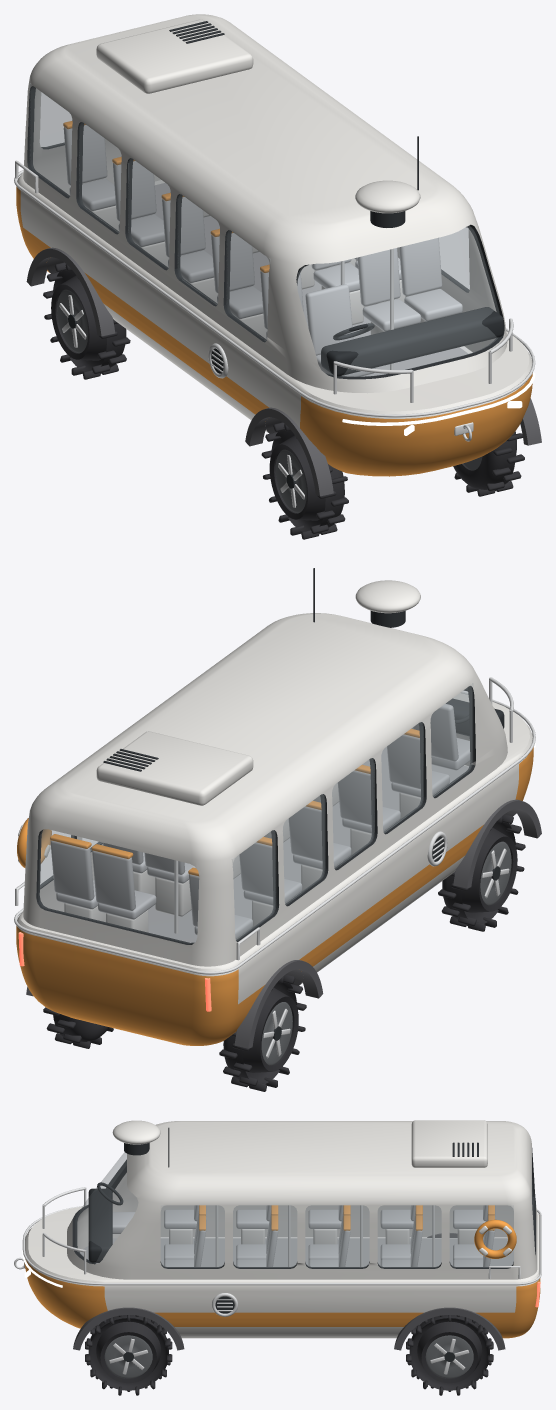
Rendered from amphibious-shuttle.glb.
The picture shows the model from 3 angles, top to bottom: view 1: azimuth 30°, elevation 25°; view 2: azimuth 150°, elevation 25°; view 3: azimuth 270°, elevation 25°; orthographic projection. The views are drawn at different scales.
Visible parts, largest first — view 1: amphibious_body, amphibious_glass, amphibious_air_unit, amphibious_dash, amphibious_wheelF-1, amphibious_wheelR-1, amphibious_wheelF+1, amphibious_driver_back, amphibious_beltline, amphibious_floor, amphibious_back+0.80+1.3, amphibious_flare-1+2 (+16 smaller); view 2: amphibious_body, amphibious_glass, amphibious_air_unit, amphibious_wheelF-1, amphibious_wheelR-1, amphibious_floor, amphibious_beltline, amphibious_back+0.36-2.3, amphibious_back+0.80-2.3, amphibious_flare-1+2, amphibious_flare-1-2, amphibious_radar_dome (+9 smaller); view 3: amphibious_body, amphibious_glass, amphibious_wheelR+1, amphibious_wheelF+1, amphibious_air_unit, amphibious_floor, amphibious_beltline, amphibious_dash, amphibious_flare+1+2, amphibious_flare+1-2, amphibious_radar_dome, amphibious_life_ring (+15 smaller).
Boxes of the visible parts, bbox=[...] form: amphibious_body: bbox=[16, 14, 532, 476]; amphibious_glass: bbox=[30, 83, 498, 376]; amphibious_air_unit: bbox=[96, 19, 253, 93]; amphibious_dash: bbox=[321, 307, 503, 376]; amphibious_wheelF-1: bbox=[261, 422, 348, 539]; amphibious_wheelR-1: bbox=[43, 262, 130, 379]; amphibious_wheelF+1: bbox=[453, 431, 524, 496]; amphibious_driver_back: bbox=[305, 284, 353, 355]; amphibious_beltline: bbox=[14, 170, 535, 417]; amphibious_floor: bbox=[132, 183, 468, 376]; amphibious_back+0.80+1.3: bbox=[399, 237, 442, 295]; amphibious_flare-1+2: bbox=[245, 407, 333, 496]; amphibious_body: bbox=[16, 613, 533, 1045]; amphibious_glass: bbox=[38, 683, 472, 943]; amphibious_air_unit: bbox=[96, 731, 253, 805]; amphibious_wheelF-1: bbox=[438, 814, 525, 931]; amphibious_wheelR-1: bbox=[219, 974, 306, 1091]; amphibious_floor: bbox=[148, 747, 468, 942]; amphibious_beltline: bbox=[14, 691, 535, 974]; amphibious_back+0.36-2.3: bbox=[92, 850, 135, 910]; amphibious_back+0.80-2.3: bbox=[50, 840, 94, 900]; amphibious_flare-1+2: bbox=[453, 799, 541, 888]; amphibious_flare-1-2: bbox=[234, 960, 323, 1048]; amphibious_radar_dome: bbox=[355, 580, 420, 613]; amphibious_body: bbox=[24, 1121, 540, 1338]; amphibious_glass: bbox=[76, 1152, 532, 1267]; amphibious_wheelR+1: bbox=[406, 1315, 493, 1395]; amphibious_wheelF+1: bbox=[85, 1315, 172, 1395]; amphibious_air_unit: bbox=[411, 1120, 487, 1167]; amphibious_floor: bbox=[79, 1238, 513, 1266]; amphibious_beltline: bbox=[22, 1206, 541, 1285]; amphibious_dash: bbox=[88, 1188, 112, 1262]; amphibious_flare+1+2: bbox=[73, 1307, 184, 1350]; amphibious_flare+1-2: bbox=[394, 1307, 505, 1350]; amphibious_radar_dome: bbox=[112, 1120, 160, 1144]; amphibious_life_ring: bbox=[474, 1219, 516, 1258].
Bounding box in the file's own units: 2.4 × 3.45 × 6.58.
